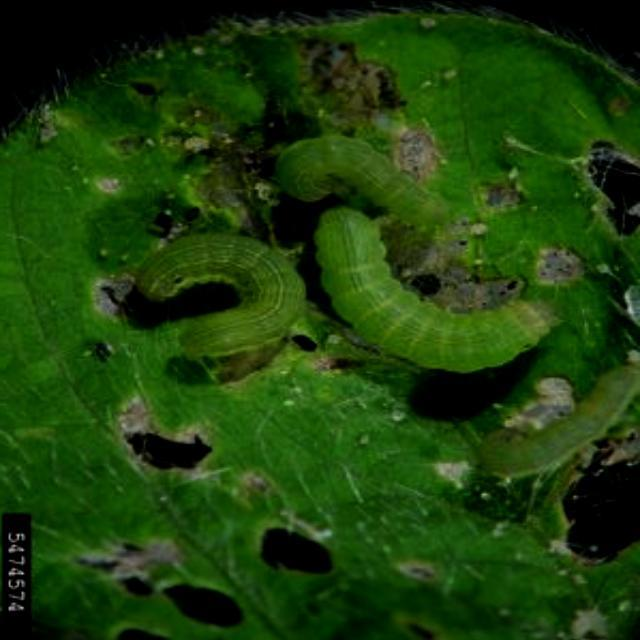Beet armyworm: (298, 173, 556, 395), (130, 206, 324, 370), (468, 324, 638, 498), (273, 106, 472, 234)
